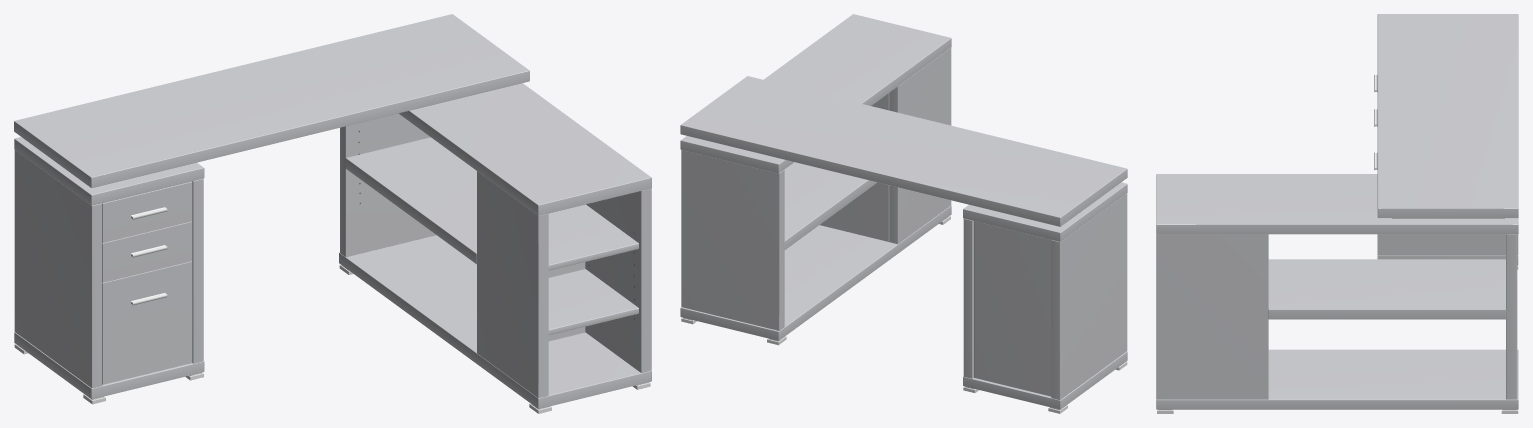
File: desk_B07TN2RZPW.glb
The picture shows the model from 3 angles, left to right: view 1: azimuth 30°, elevation 25°; view 2: azimuth 150°, elevation 25°; view 3: azimuth 270°, elevation 25°; orthographic projection. The views are drawn at different scales.
Parts seen in each view (by area): view 1: RootNode; view 2: RootNode; view 3: RootNode.
Boxes of the visible parts, x1,y1,x2,y2 form: RootNode: [14, 14, 651, 413]; RootNode: [680, 14, 1127, 413]; RootNode: [1156, 14, 1518, 413].
Size of the model in its own units: 1.52 by 0.753 by 1.2.
Materials: 1 (1 with a texture image).
